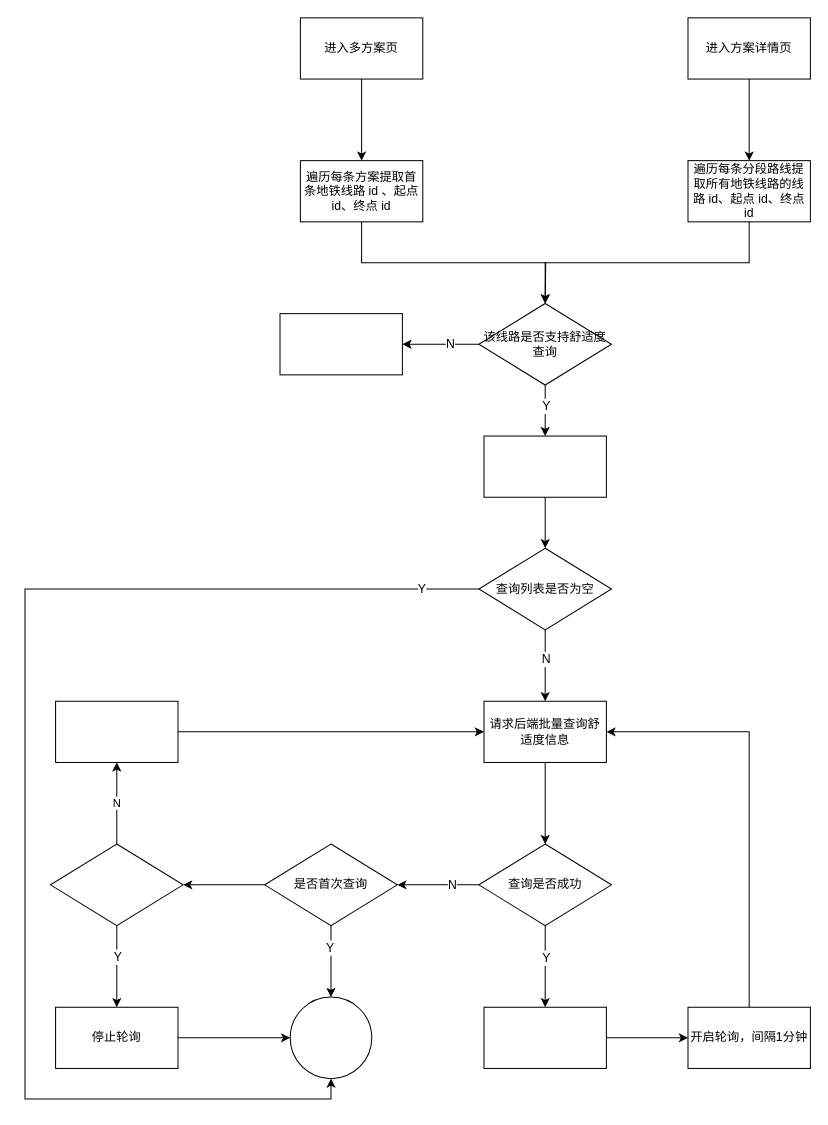
This 828x1125 diagram has some shape labels left out. Here are the shapes that lost their labels. From the top down, the box of each, then its label:
(279, 313, 402, 375): 抛弃该线路
(483, 435, 606, 497): 添加到查询 list
(55, 700, 178, 762): 等待下次轮询
(49, 843, 183, 926): 是否达到重试次数限制
(289, 996, 372, 1079): 结束 隐藏 UI
(483, 1006, 606, 1068): 通知上层 UI展示舒适度信息
